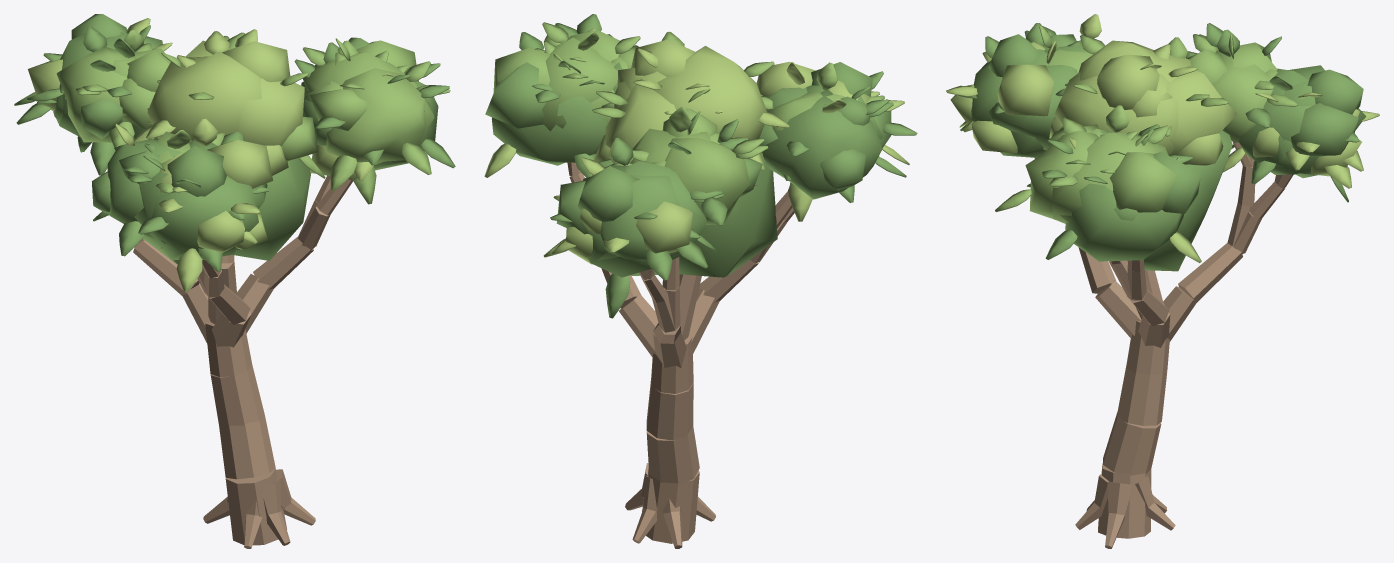
The model's file is Tree_3.gltf.
The picture shows the model from 3 angles, left to right: view 1: azimuth 30°, elevation 25°; view 2: azimuth 150°, elevation 25°; view 3: azimuth 270°, elevation 25°; orthographic projection. The views are drawn at different scales.
Visible parts, largest first — view 1: Tree_3; view 2: Tree_3; view 3: Tree_3.
Boxes of the visible parts, x1,y1,x2,y2 form: Tree_3: (14,14,455,548); Tree_3: (484,14,917,548); Tree_3: (946,14,1379,548).
Bounding box in the file's own units: 2.77 × 3.67 × 3.02.
